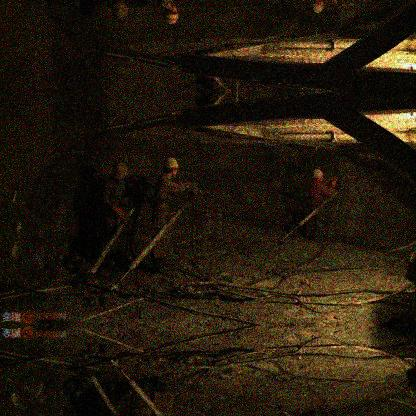helmet: (110, 162, 129, 184), (113, 2, 130, 23), (163, 5, 180, 25), (162, 157, 177, 176), (312, 1, 324, 14), (312, 168, 324, 181)
